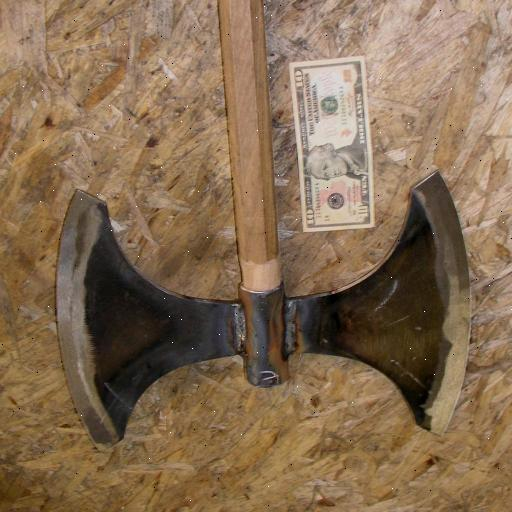Axe: (55, 0, 470, 452)
